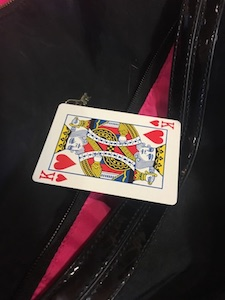KingOfHearts: (28, 101, 186, 208)
